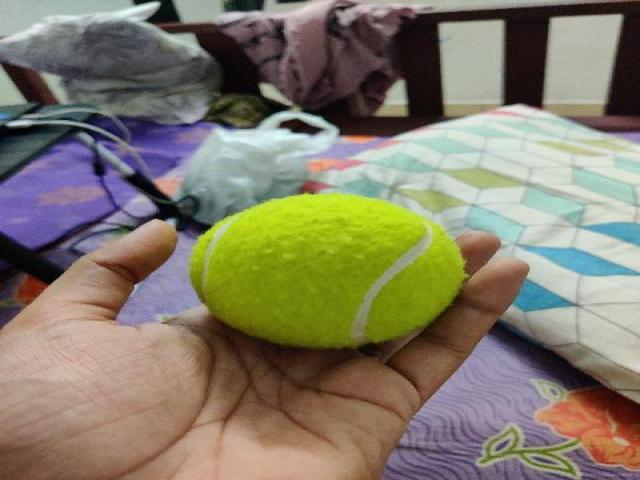tennis-ball: (186, 192, 467, 350)
